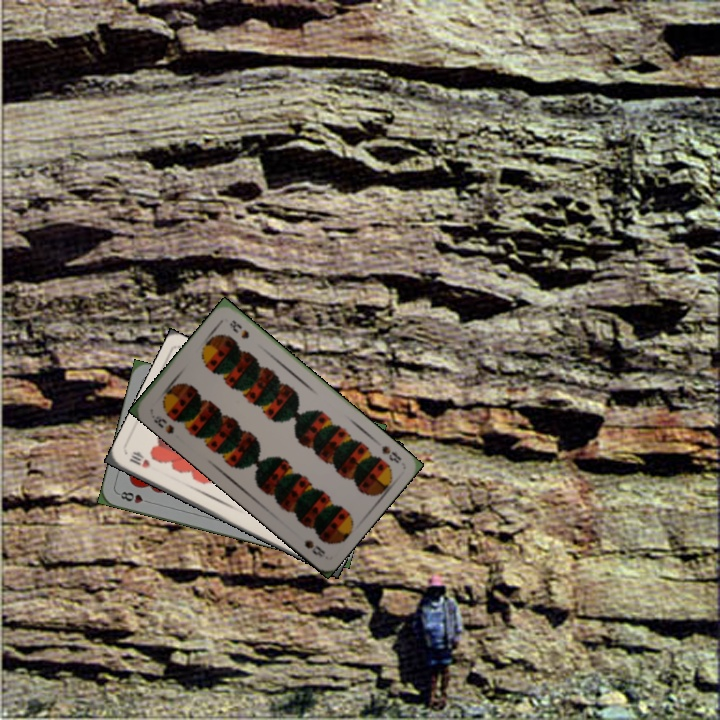H10: (125, 449, 153, 471)
H8: (115, 487, 155, 506)
S8: (147, 406, 177, 436), (377, 442, 404, 466)
